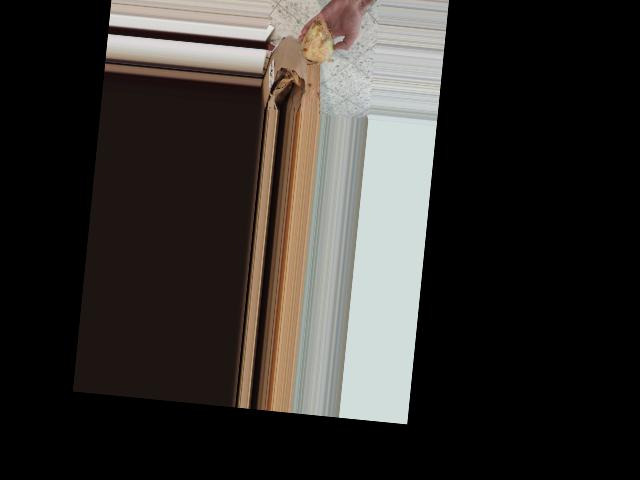onion: (296, 10, 343, 70)
